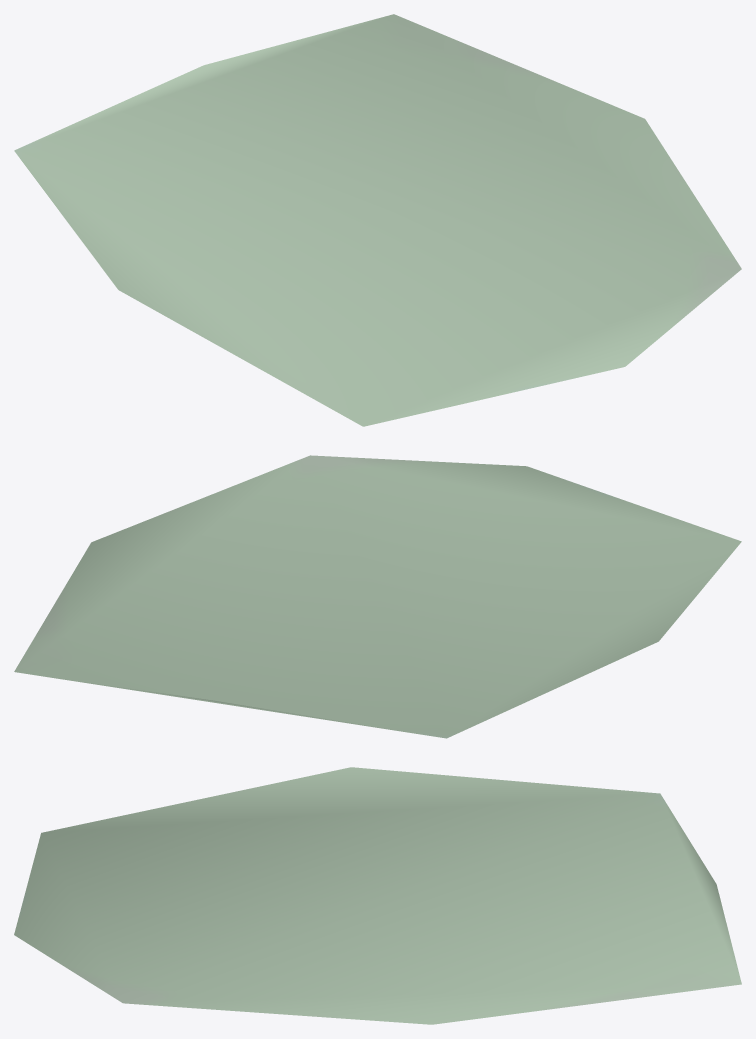
Rendered from TROLLHOLE02_HOLECAP210.fbx.
3 renders of one model, top to bottom at view 1: azimuth 30°, elevation 25°; view 2: azimuth 150°, elevation 25°; view 3: azimuth 270°, elevation 25°, orthographic. The views are drawn at different scales.
Visible parts, largest first — view 1: TROLLHOLE02_HOLECAP210; view 2: TROLLHOLE02_HOLECAP210; view 3: TROLLHOLE02_HOLECAP210.
Boxes of the visible parts, left/top/right/bottom form: TROLLHOLE02_HOLECAP210: left=14, top=14, right=741, bottom=426; TROLLHOLE02_HOLECAP210: left=14, top=455, right=741, bottom=738; TROLLHOLE02_HOLECAP210: left=14, top=767, right=741, bottom=1024.
Size of the model in its own units: 11542 by 861 by 13777.
1 material, 1 textured.
